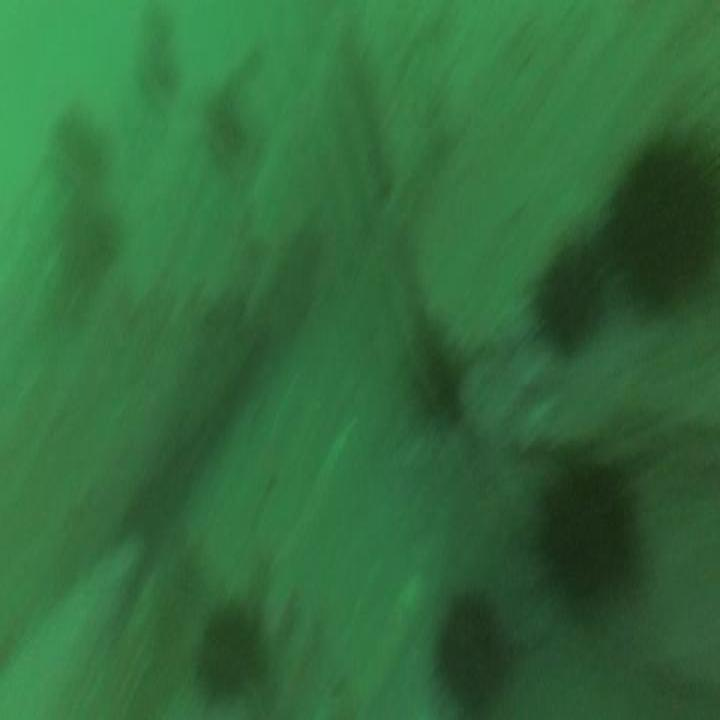echinus: (580, 103, 720, 334), (518, 430, 653, 635), (506, 220, 607, 368), (426, 569, 522, 720), (189, 586, 274, 714), (397, 311, 475, 439)
